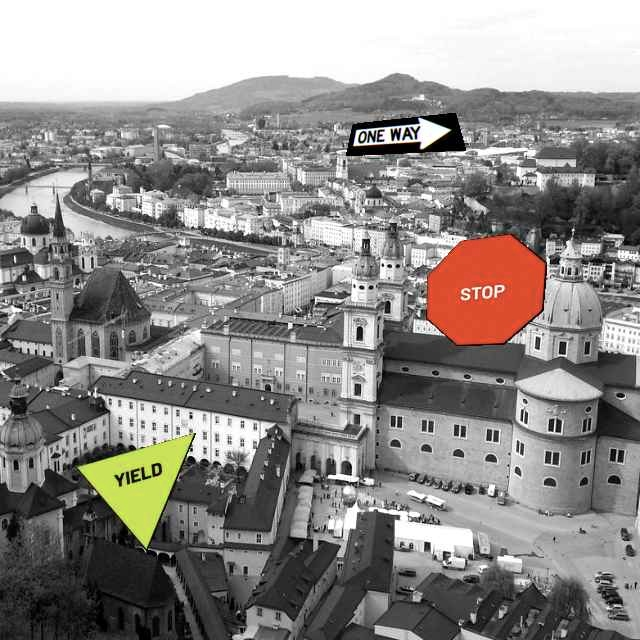ONE_WAY_ right: (345, 112, 466, 156)
STOP: (426, 233, 547, 346)
YIELD: (75, 432, 196, 551)
